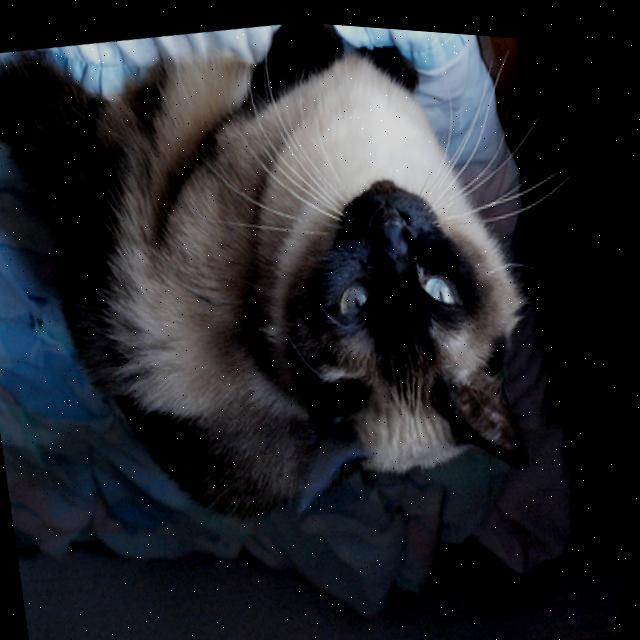Siamese: (0, 0, 571, 584)
